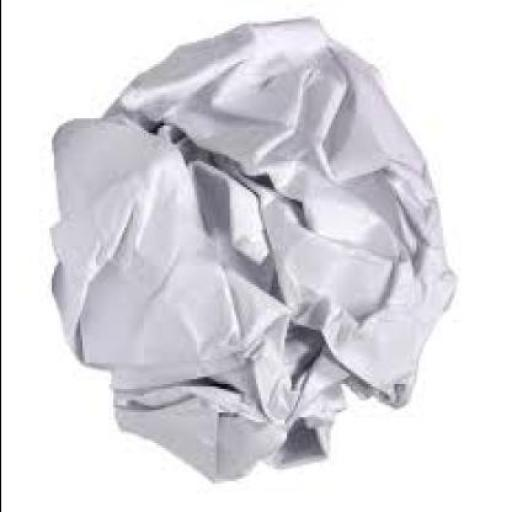paper: (53, 14, 457, 480)
